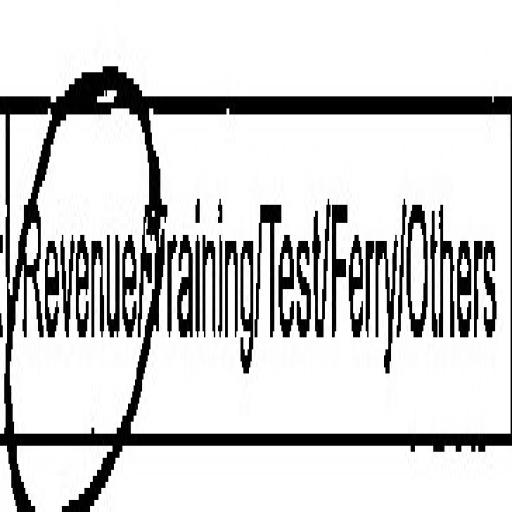check: (8, 0, 142, 512)
